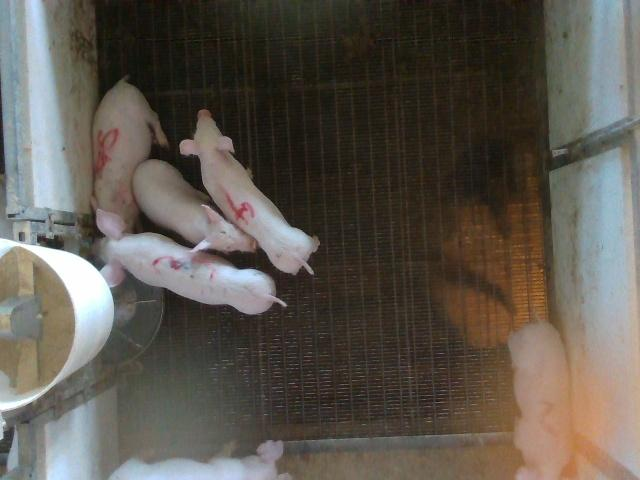pig-1: (109, 440, 290, 479)
pig-2: (509, 321, 572, 478)
pig-3: (94, 209, 286, 314)
pig-4: (180, 110, 320, 274)
pig-5: (94, 78, 168, 231)
